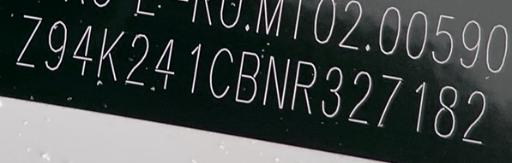letter: (460, 87, 488, 147), (13, 13, 43, 69), (288, 59, 318, 114), (376, 73, 406, 128), (262, 54, 292, 109), (96, 26, 124, 83), (208, 44, 234, 101), (433, 84, 459, 140), (346, 69, 372, 124), (235, 49, 261, 104), (124, 33, 150, 86), (321, 63, 345, 120), (70, 22, 94, 79), (153, 38, 177, 93), (44, 18, 68, 72), (187, 39, 203, 94), (412, 76, 426, 135)
